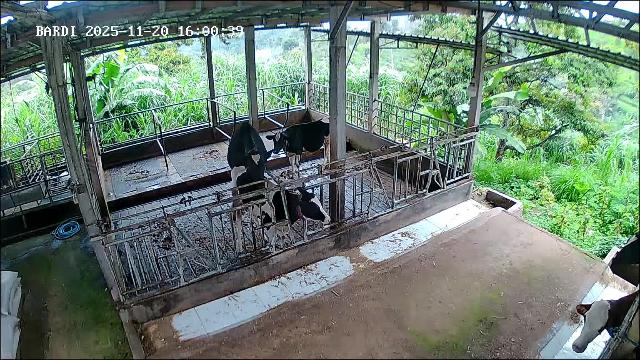mounting: (227, 119, 274, 222)
